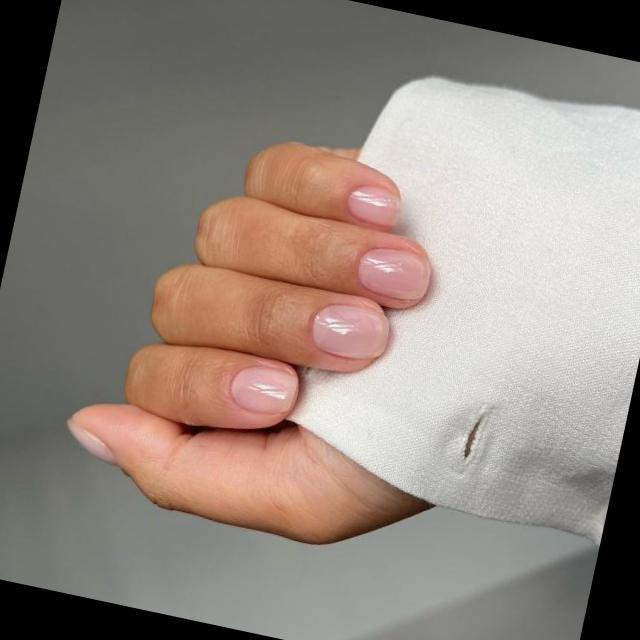Nail: (311, 302, 389, 359), (357, 246, 430, 301), (231, 363, 298, 414), (348, 185, 399, 226), (72, 428, 110, 459)
